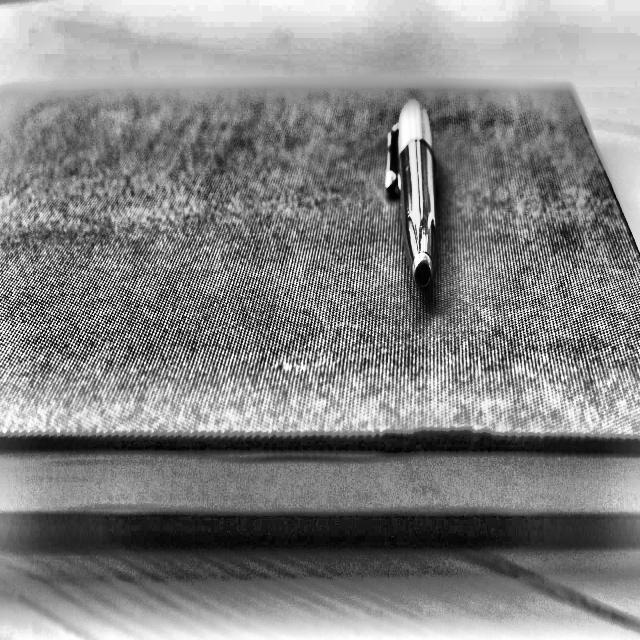Pen: (374, 62, 453, 309)
